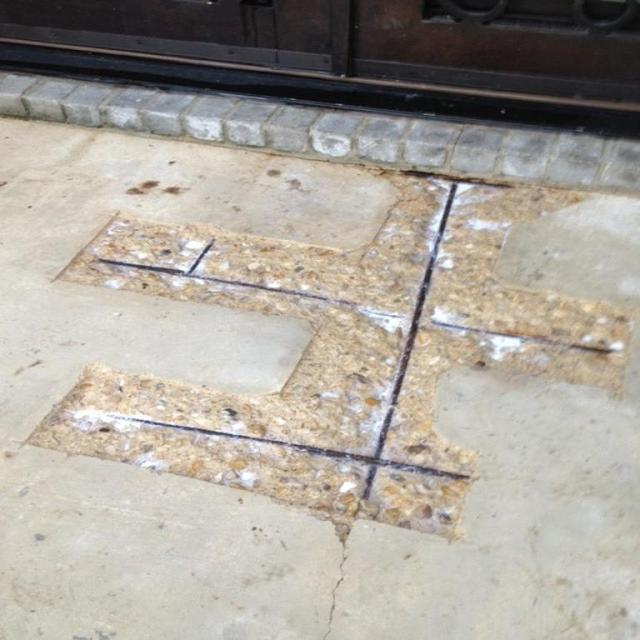spalling: (24, 161, 629, 548)
